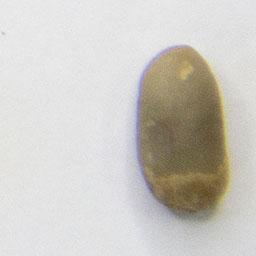longberry: (132, 40, 233, 220)
